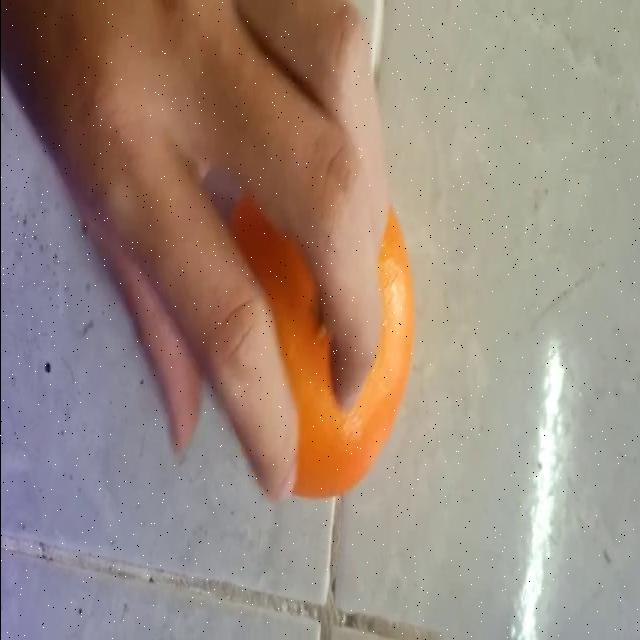Orange: (227, 192, 417, 499)
